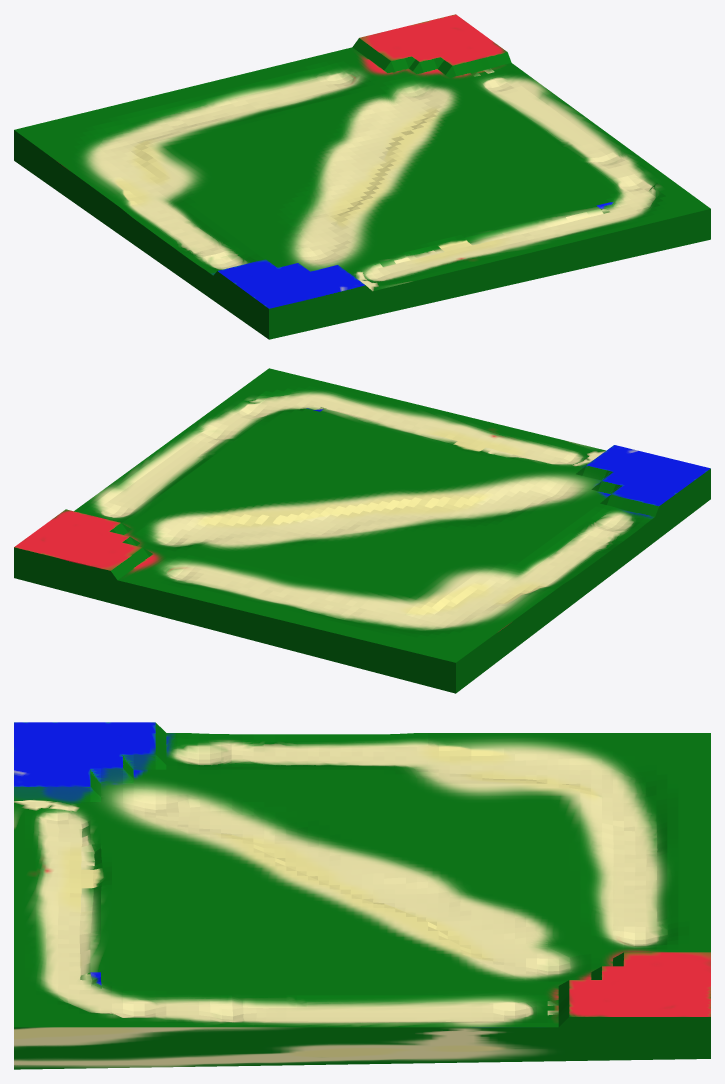
The model's file is floor.gltf.
3 renders of one model, top to bottom at view 1: azimuth 30°, elevation 25°; view 2: azimuth 150°, elevation 25°; view 3: azimuth 270°, elevation 25°, orthographic. The views are drawn at different scales.
Visible parts, largest first — view 1: floor; view 2: floor; view 3: floor.
Boxes of the visible parts, box(x1,y1,x2,y2) form: floor: box(14, 14, 710, 339); floor: box(14, 368, 710, 693); floor: box(14, 722, 710, 1069).
Size of the model in its own units: 60 by 5.01 by 60.
1 material, 1 textured.
